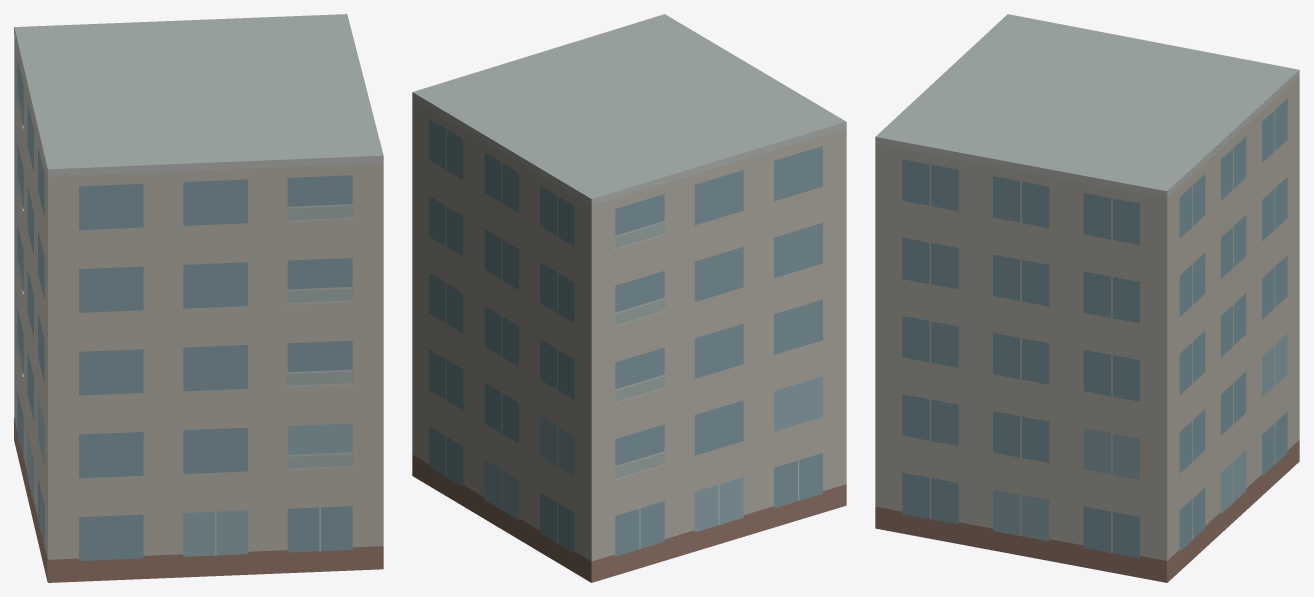
The model's file is survey-upis-32531002.glb.
The picture shows the model from 3 angles, left to right: view 1: azimuth 30°, elevation 25°; view 2: azimuth 150°, elevation 25°; view 3: azimuth 270°, elevation 25°; orthographic projection. The views are drawn at different scales.
Visible parts, largest first — view 1: survey-upis-32531002.tmp; view 2: survey-upis-32531002.tmp; view 3: survey-upis-32531002.tmp.
Part boxes in pixels (x1,y1,x2,y2): survey-upis-32531002.tmp: [14, 14, 383, 582]; survey-upis-32531002.tmp: [412, 14, 846, 582]; survey-upis-32531002.tmp: [875, 14, 1299, 582].
Bounding box in the file's own units: 13.7 × 14.1 × 13.86.
